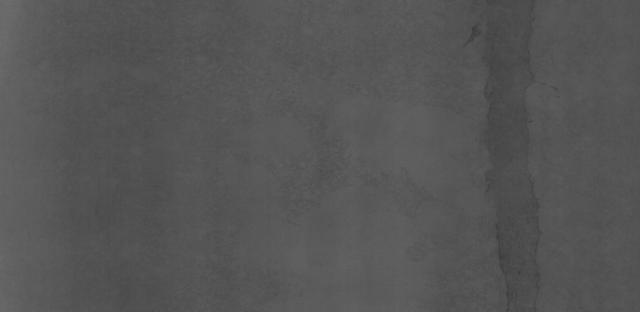water_spot: (456, 0, 552, 306)
